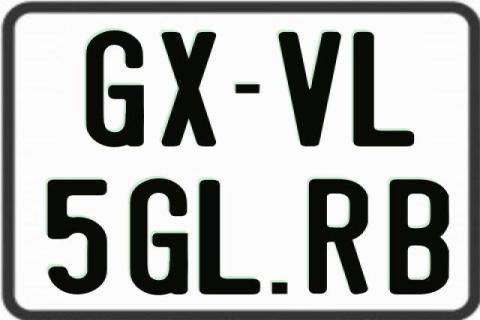0: (44, 177, 108, 292)
B: (388, 177, 449, 293)
G: (86, 29, 148, 147), (127, 176, 185, 294)
L: (353, 32, 417, 148), (198, 177, 261, 293)
R: (306, 180, 367, 298)
V: (278, 30, 348, 148)
X: (162, 29, 218, 145)
